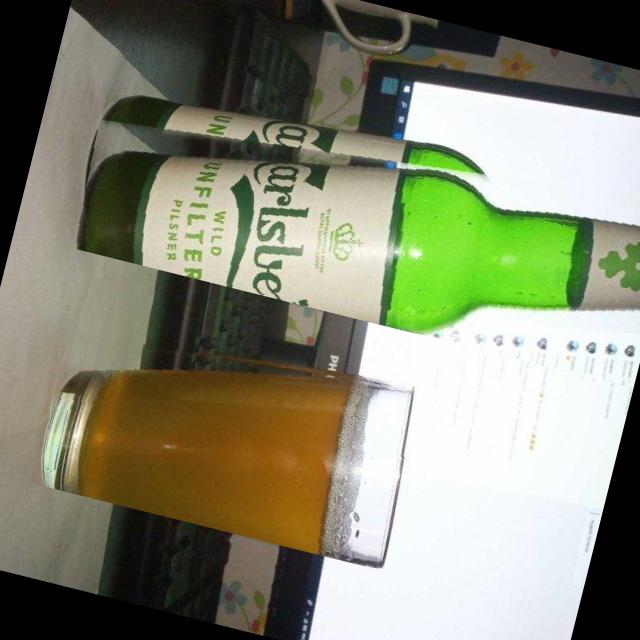Glass: (66, 60, 640, 388), (30, 304, 427, 570)
